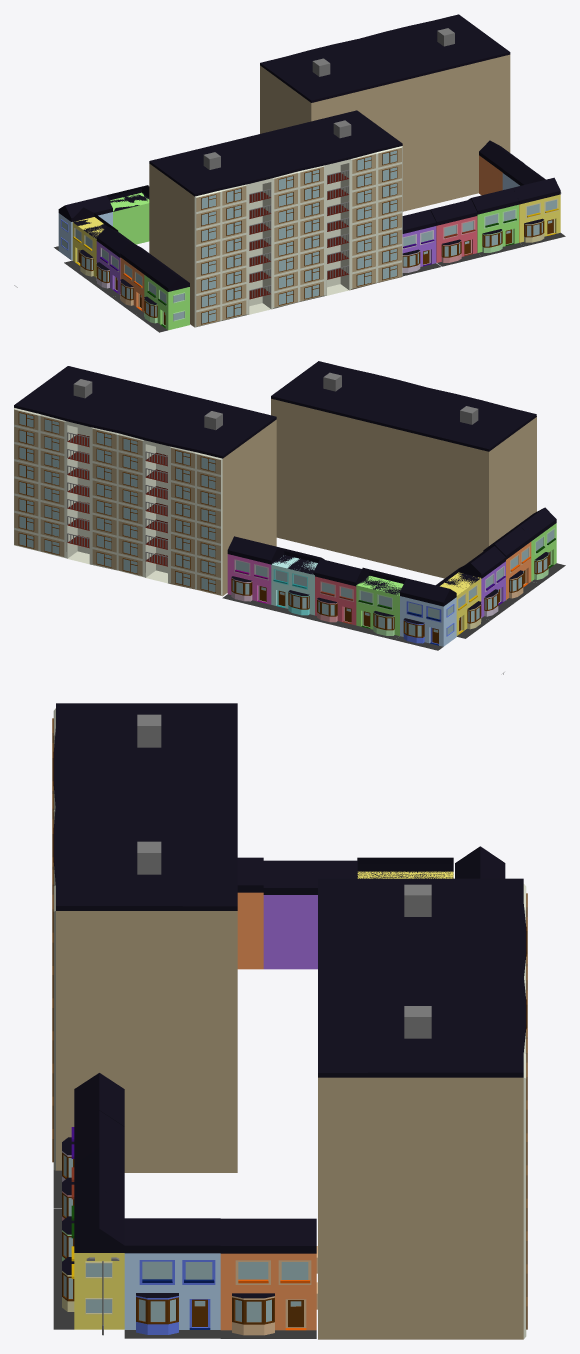
The model's file is 2x4block.glb.
3 views of the same model, one above another, from view 1: azimuth 30°, elevation 25°; view 2: azimuth 150°, elevation 25°; view 3: azimuth 270°, elevation 25° (orthographic). The views are drawn at different scales.
Parts seen in each view (by area): view 1: Cube.001; view 2: Cube.001; view 3: Cube.001.
Boxes of the visible parts, x1,y1,x2,y2 form: Cube.001: (54,14,565,332); Cube.001: (14,361,565,650); Cube.001: (52,703,527,1339).
Bounding box in the file's own units: 0.4454 × 0.1554 × 0.2016.
